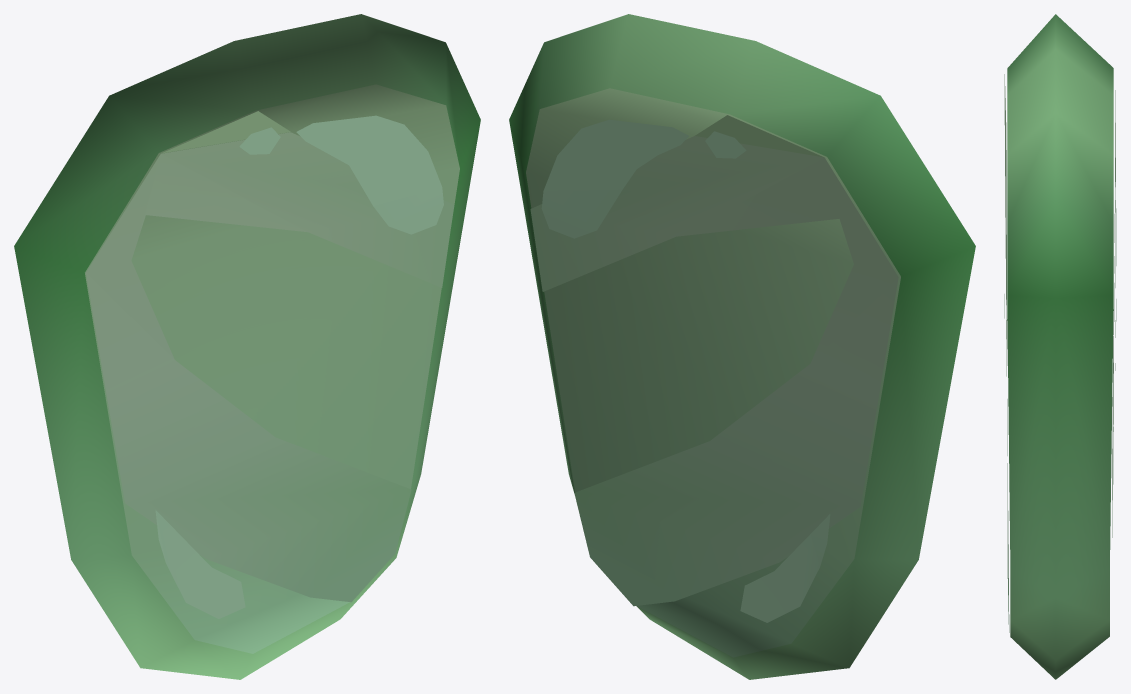
File: SeaGlass.fbx
3 renders of one model, left to right at view 1: azimuth 30°, elevation 25°; view 2: azimuth 150°, elevation 25°; view 3: azimuth 270°, elevation 25°, orthographic. The views are drawn at different scales.
Visible parts, largest first — view 1: SeaGlass; view 2: SeaGlass; view 3: SeaGlass.
Boxes of the visible parts, left/top/right/bottom form: SeaGlass: left=14, top=14, right=480, bottom=679; SeaGlass: left=509, top=14, right=975, bottom=679; SeaGlass: left=1004, top=14, right=1116, bottom=679.
Bounding box in the file's own units: 59.47 × 77.96 × 12.94.
